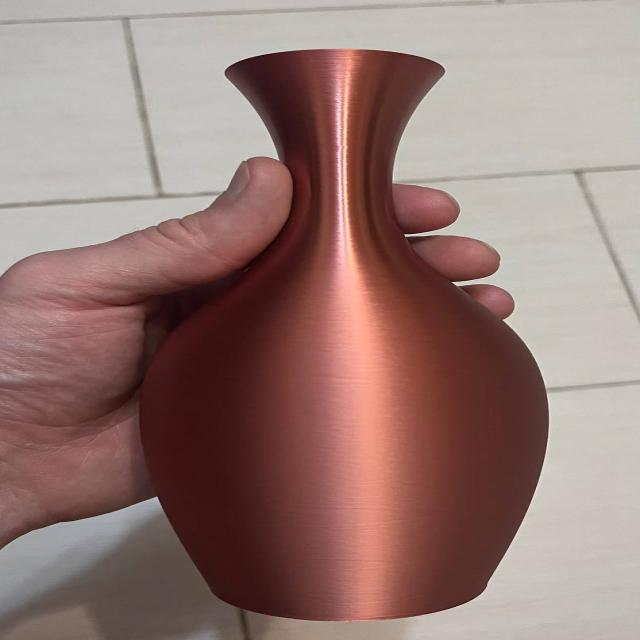Without deffect: (136, 28, 581, 633)
